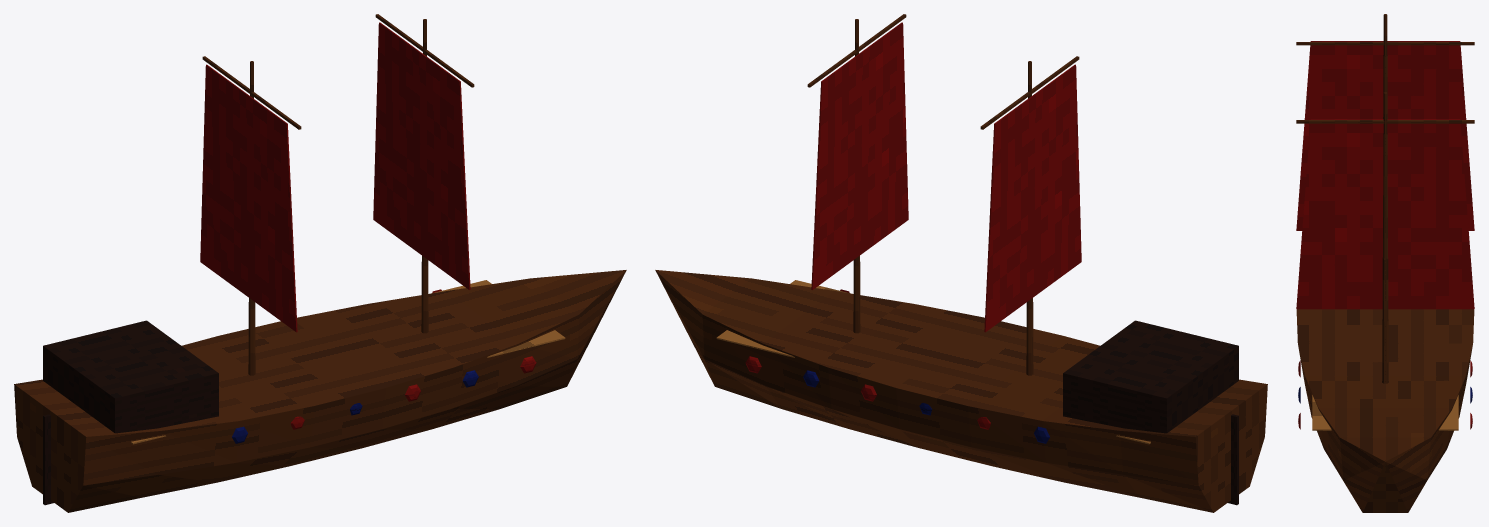
The model's file is barco_guerra.glb.
3 views of the same model, side by side, from view 1: azimuth 30°, elevation 25°; view 2: azimuth 150°, elevation 25°; view 3: azimuth 270°, elevation 25° (orthographic). The views are drawn at different scales.
Visible parts, largest first — view 1: casco, velas, castillo, mastiles, vergas, cubierta, timon; view 2: casco, velas, castillo, mastiles, vergas, cubierta, timon; view 3: velas, casco, mastiles, vergas, cubierta.
Part boxes in pixels (<box>): casco: <box>14,270,626,512</box>; velas: <box>200,22,470,332</box>; castillo: <box>43,320,218,433</box>; mastiles: <box>248,19,428,375</box>; vergas: <box>202,14,474,129</box>; cubierta: <box>131,280,565,444</box>; timon: <box>43,414,53,505</box>; casco: <box>655,270,1267,512</box>; velas: <box>811,22,1081,332</box>; castillo: <box>1063,320,1238,433</box>; mastiles: <box>853,19,1033,375</box>; vergas: <box>807,14,1079,129</box>; cubierta: <box>716,280,1150,444</box>; timon: <box>1228,414,1238,505</box>; velas: <box>1296,41,1474,309</box>; casco: <box>1296,309,1474,512</box>; mastiles: <box>1382,14,1388,383</box>; vergas: <box>1296,42,1474,123</box>; cubierta: <box>1312,395,1458,430</box>.
Bounding box in the file's own units: 28 × 18 × 8.
Materials: 1 (1 with a texture image).
